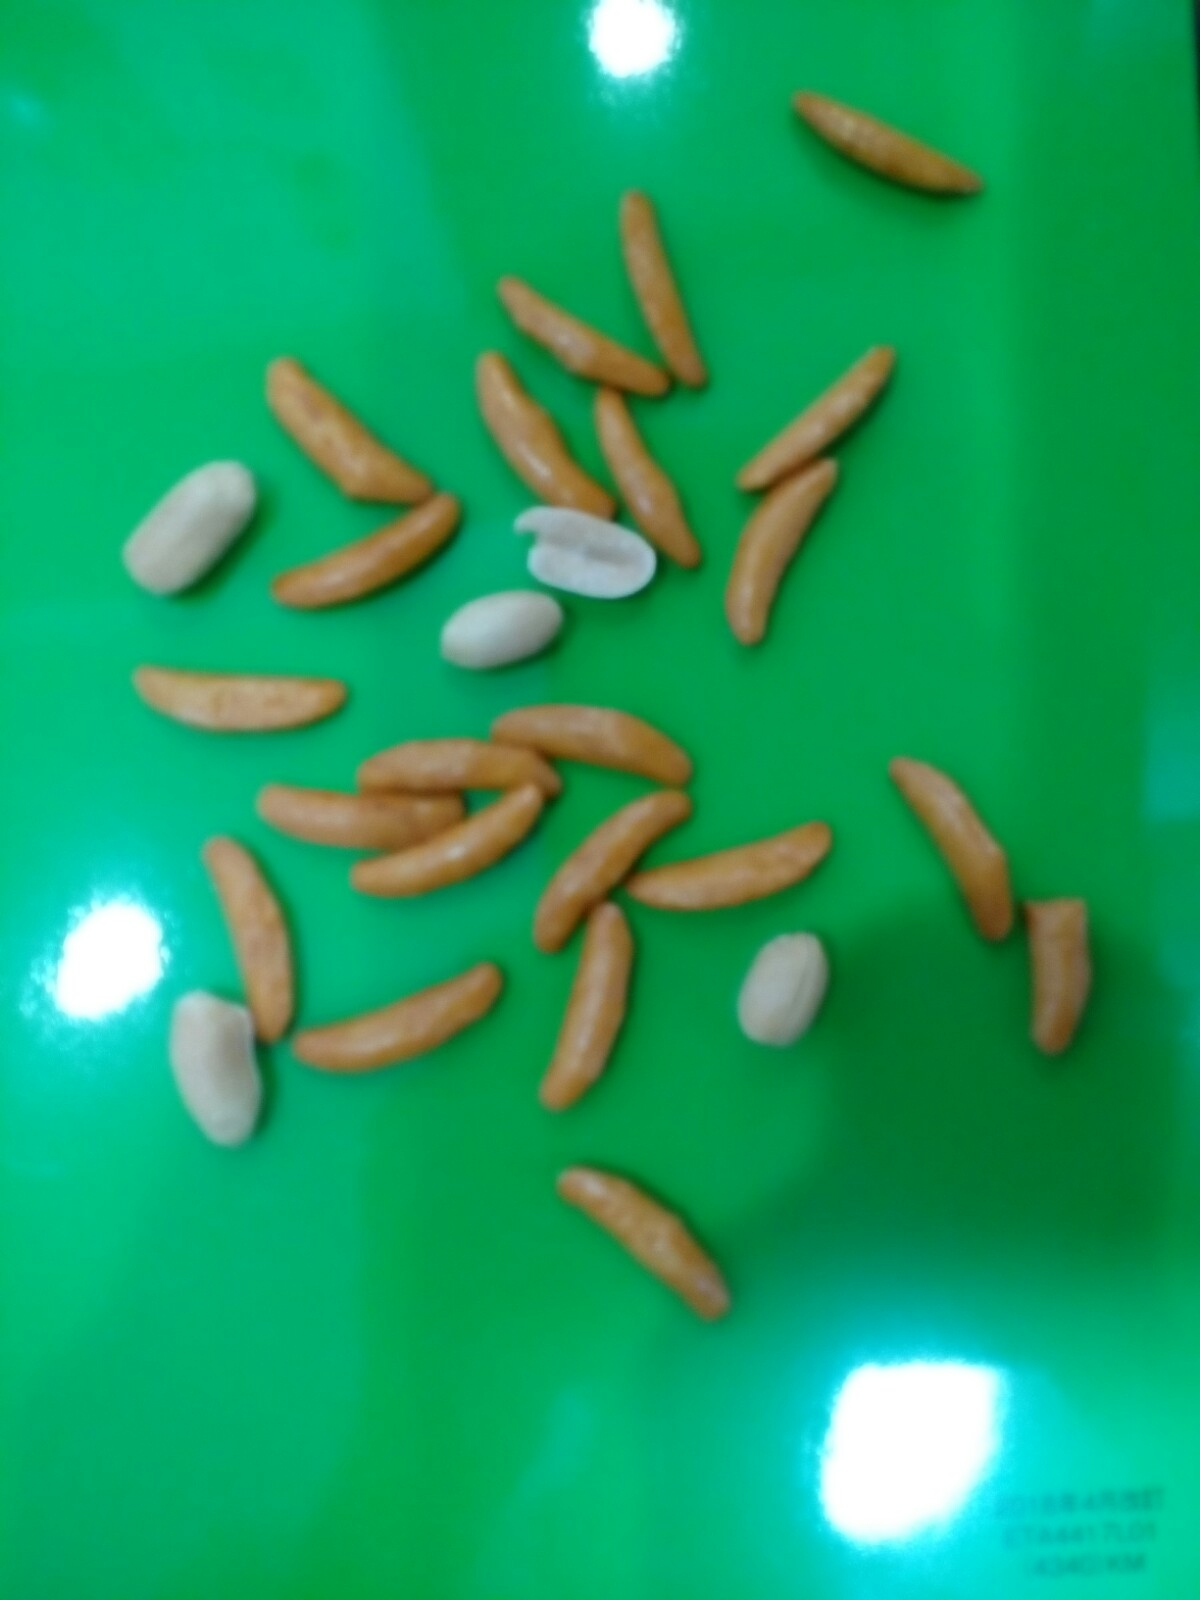peanut: (158, 980, 274, 1157), (134, 450, 256, 610), (518, 499, 658, 610), (720, 923, 839, 1049), (434, 582, 586, 674)
